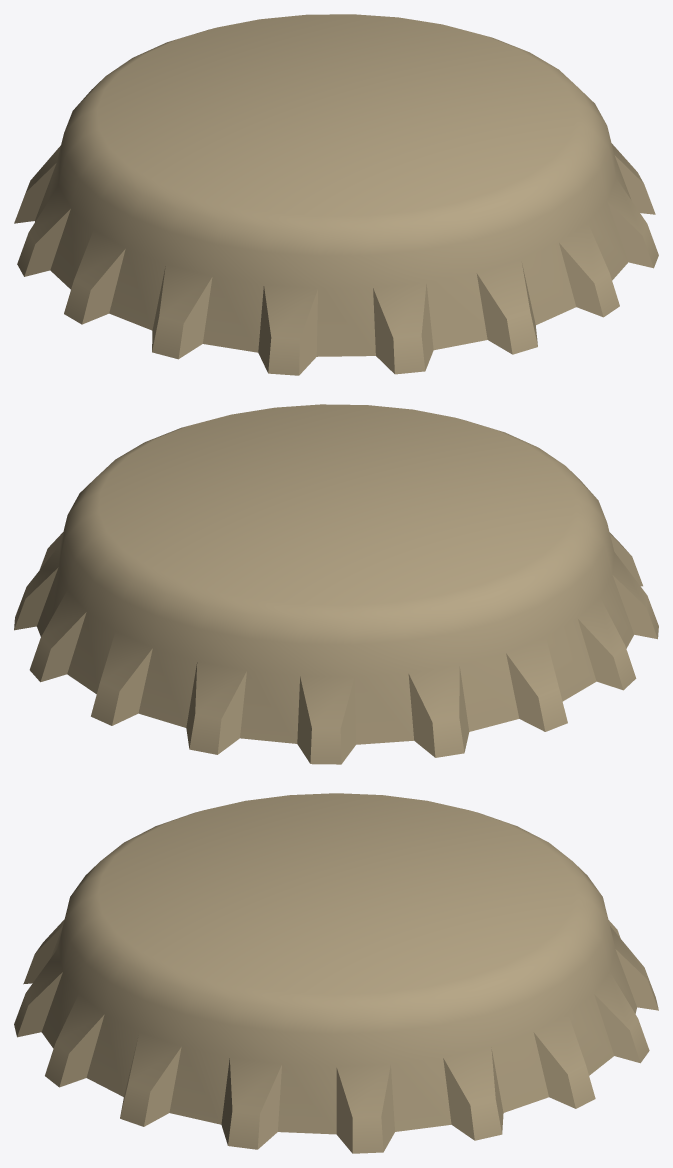
The model's file is tapaAluminio.fbx.
3 views of the same model, one above another, from view 1: azimuth 30°, elevation 25°; view 2: azimuth 150°, elevation 25°; view 3: azimuth 270°, elevation 25° (orthographic).
Parts seen in each view (by area): view 1: tapaAluminio; view 2: tapaAluminio; view 3: tapaAluminio.
Part boxes in pixels (x1=…): tapaAluminio: x1=14, y1=14, x2=658, y2=375; tapaAluminio: x1=14, y1=404, x2=658, y2=764; tapaAluminio: x1=14, y1=793, x2=658, y2=1153.
Bounding box in the file's own units: 16.26 × 3.44 × 16.26.
